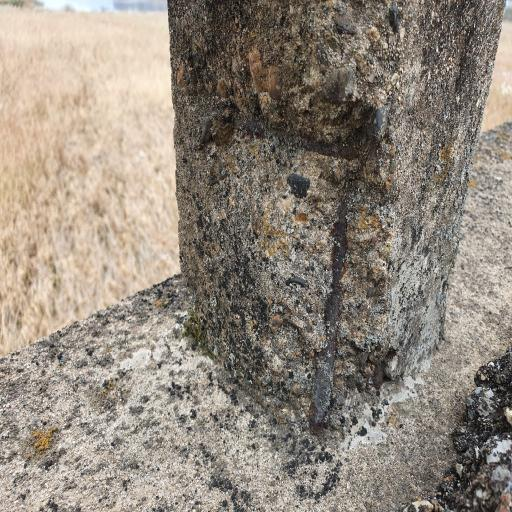exposed_rebar: (309, 196, 347, 427), (233, 119, 364, 160), (288, 172, 310, 197)
